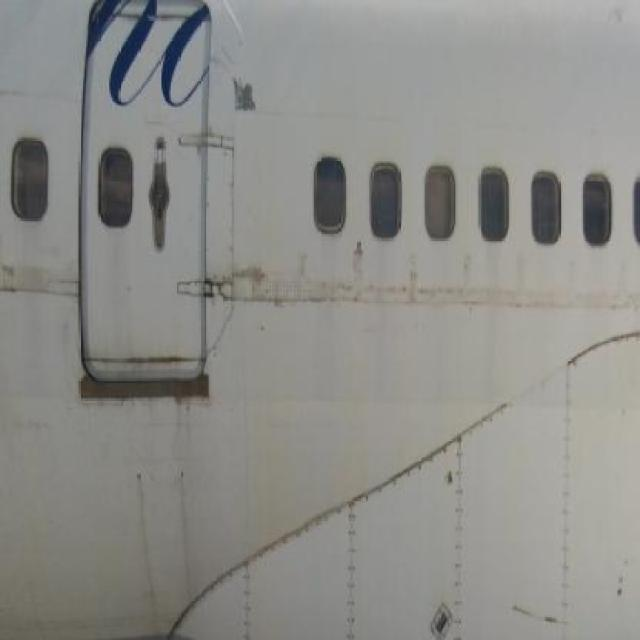Missing-Rivet: (442, 418, 470, 640), (176, 560, 238, 635), (338, 484, 366, 640), (366, 446, 440, 502), (258, 512, 336, 558), (242, 547, 256, 640), (477, 402, 518, 429)
Rust: (125, 456, 158, 612), (175, 464, 192, 596), (185, 247, 220, 311)
Scartch: (100, 393, 218, 492), (230, 251, 285, 334), (221, 63, 273, 139), (488, 584, 558, 638), (205, 301, 241, 390), (398, 239, 429, 333), (287, 232, 319, 321), (346, 240, 379, 317), (454, 246, 483, 326)
